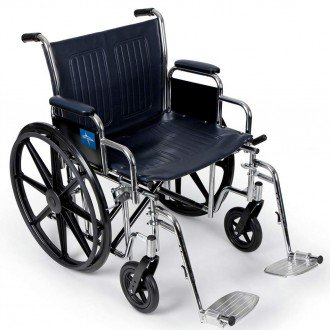wheelchair: (10, 2, 314, 316)
